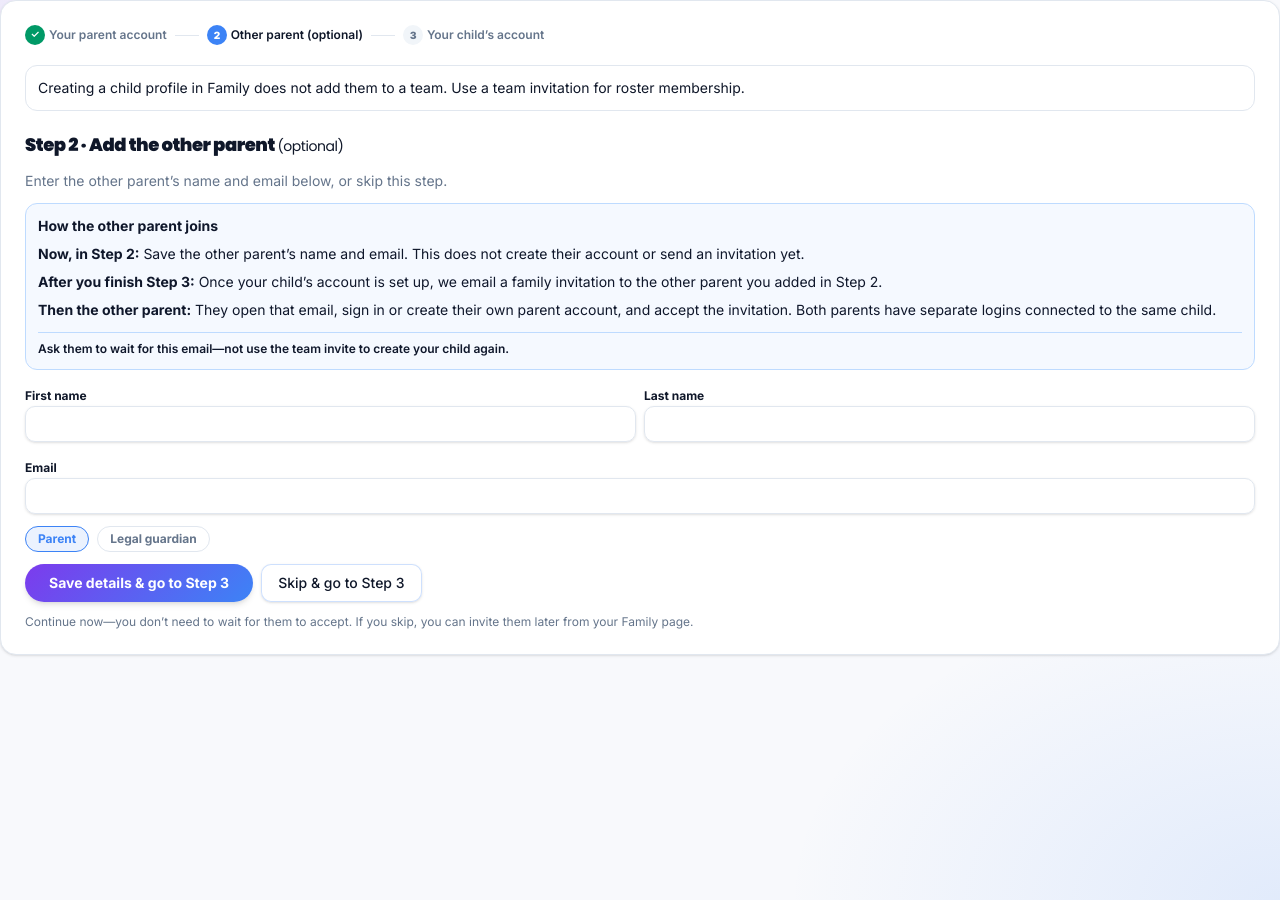
Test case: FamilySetup › blocks player creation if the adult session changes before submission
Click the button with test id "btn-coparent-skip".
click(341, 583)  # box [261,564,422,602]
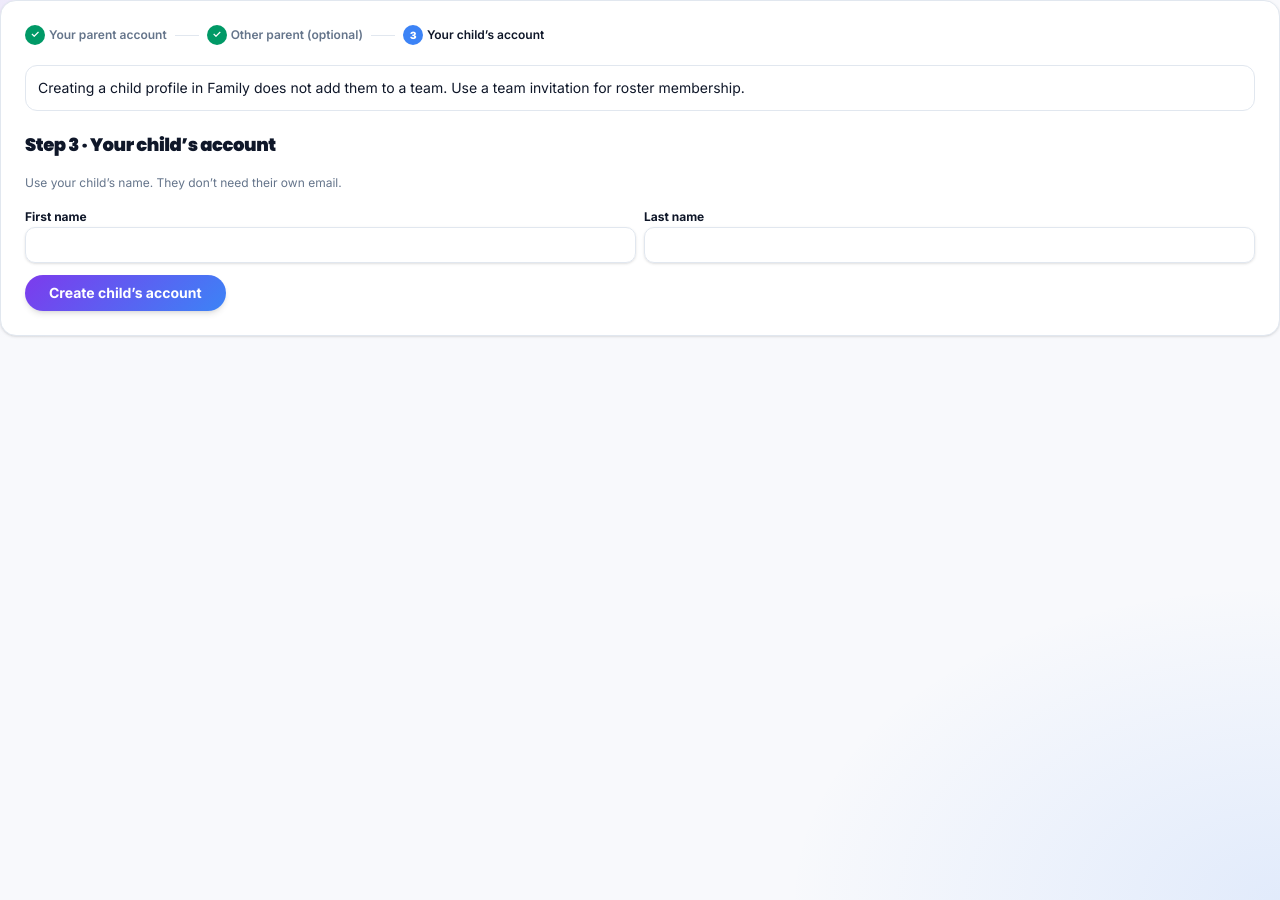
Check: the field with test id "input-child-first" is shown
Type "Ava" into the field with test id "input-child-first".
click(330, 245); type("Ava")  # box [25,227,636,263]
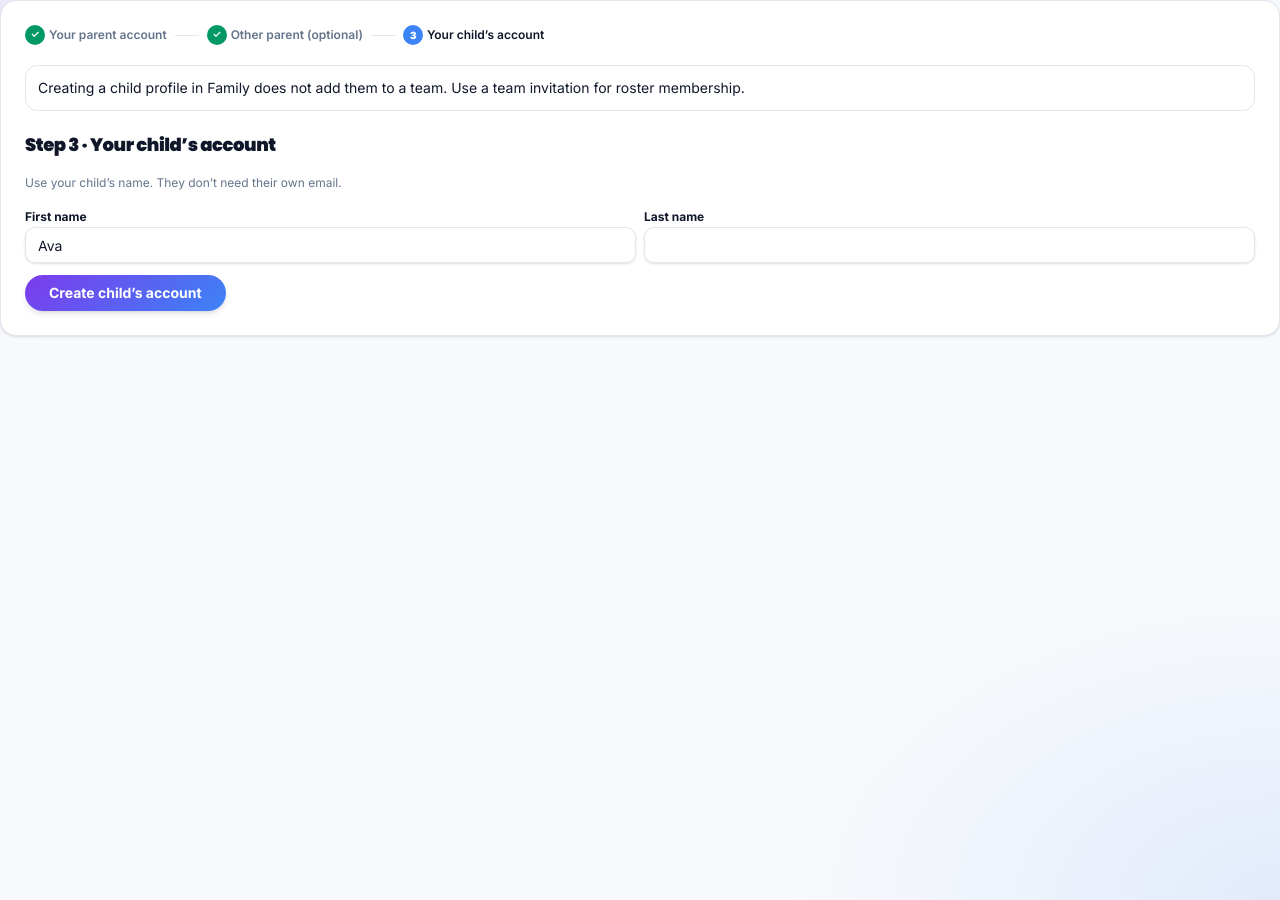
Type "Lee" into the field with test id "input-child-last".
click(950, 245); type("Lee")  # box [644,227,1255,263]
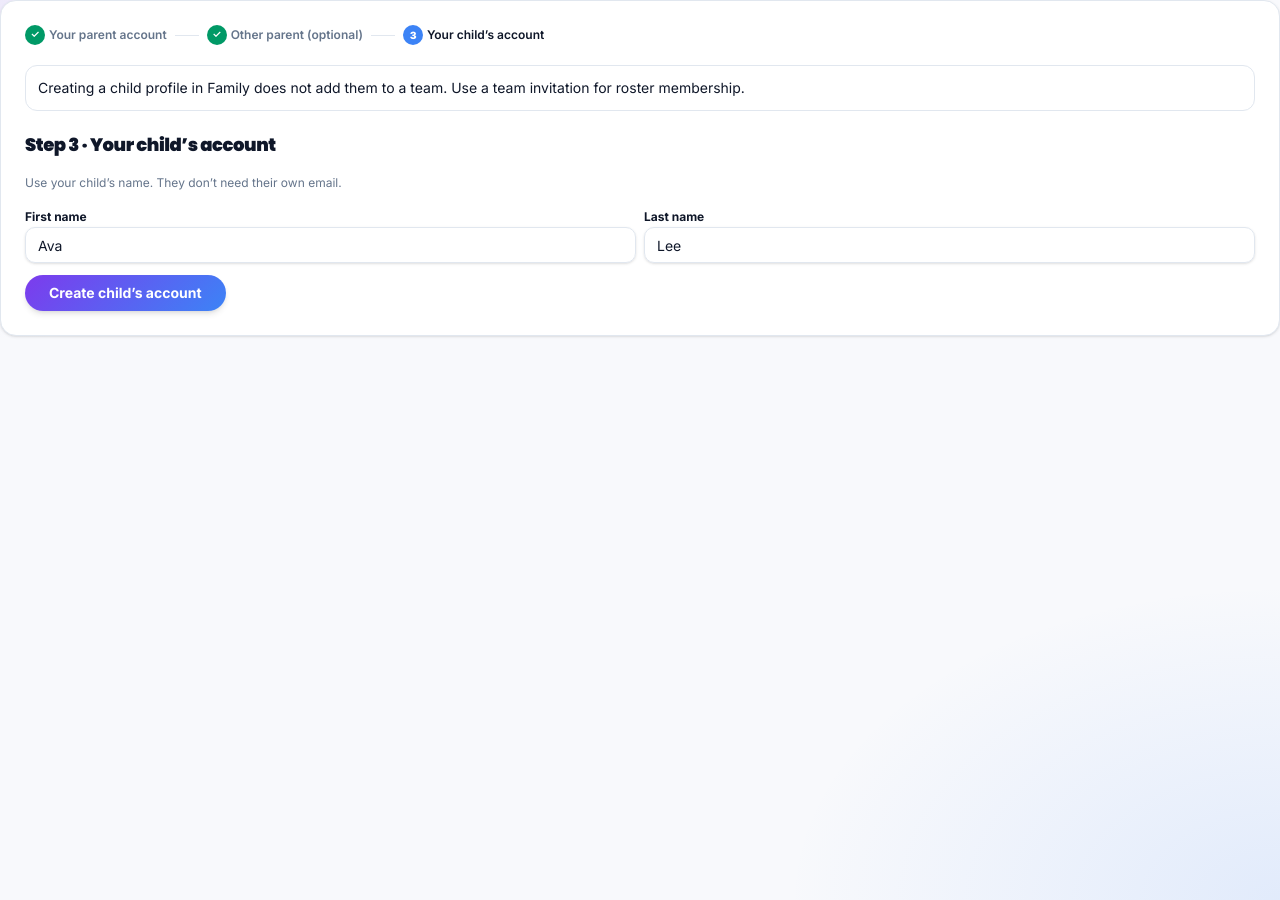
Click the button with test id "btn-add-child".
click(125, 293)  # box [25,275,226,311]
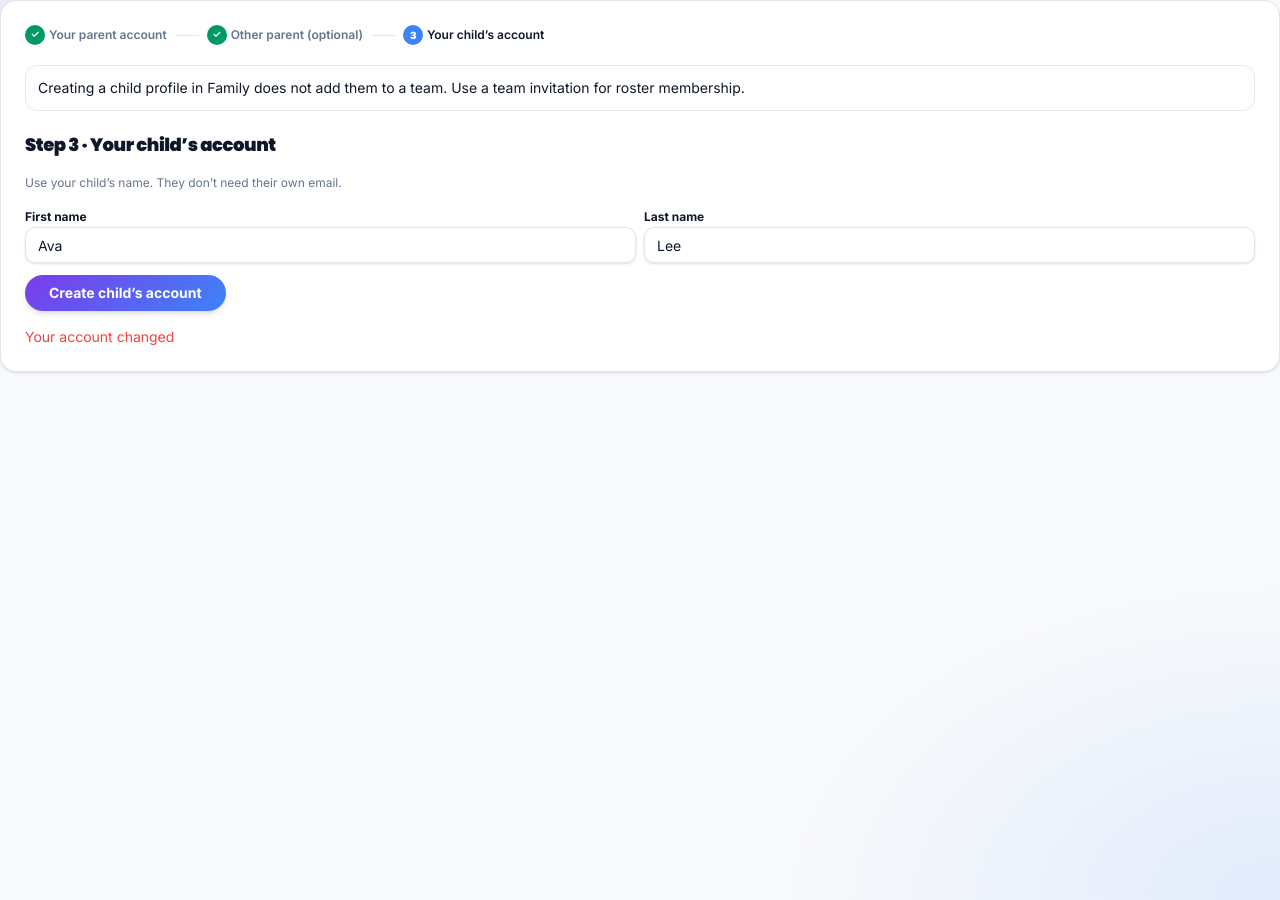
Check: the text "Your account changed" is shown, box [25,328,174,345]
